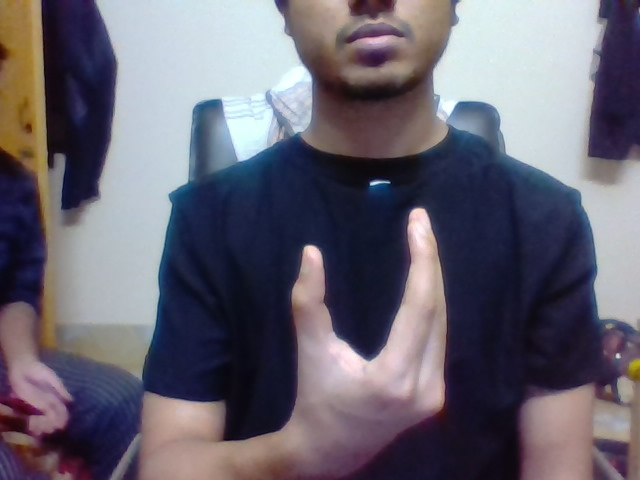U: (278, 195, 456, 380)
